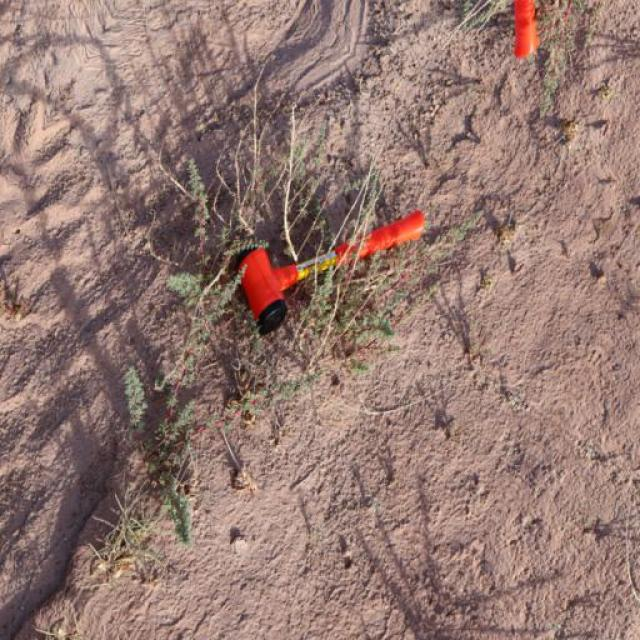mallet: (230, 206, 426, 335)
